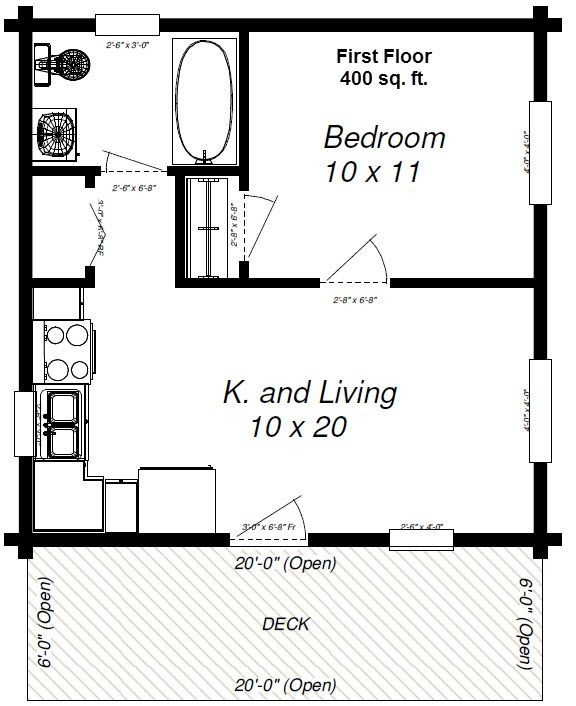door: (235, 486, 314, 563), (321, 237, 393, 286), (237, 184, 286, 256)
room: (16, 272, 556, 557), (158, 10, 550, 294), (13, 7, 258, 280)
wall: (160, 12, 564, 36), (14, 7, 37, 385), (2, 530, 234, 552), (385, 268, 533, 296), (234, 31, 255, 188), (170, 271, 318, 292), (168, 159, 190, 287), (531, 207, 549, 356), (457, 528, 571, 551), (306, 525, 391, 554), (4, 14, 98, 38), (28, 160, 104, 189), (16, 457, 35, 564), (531, 464, 550, 560), (168, 159, 250, 181), (530, 3, 548, 102), (34, 269, 100, 285)
window: (519, 353, 556, 468), (521, 93, 556, 214), (387, 516, 450, 559), (87, 10, 165, 43), (13, 383, 40, 459)
